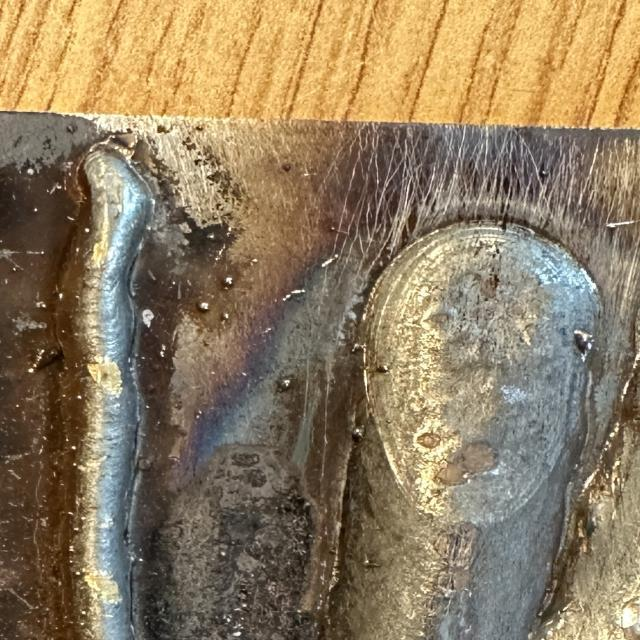Excess Reinforcement: (90, 132, 138, 160)
Spatters: (28, 346, 63, 372), (573, 329, 593, 359), (277, 376, 293, 392), (142, 309, 155, 327), (352, 425, 365, 441), (538, 165, 548, 180), (197, 301, 210, 312), (65, 559, 78, 570), (223, 276, 233, 288), (67, 540, 75, 554), (377, 364, 390, 372), (223, 615, 232, 626), (70, 525, 80, 534), (35, 301, 47, 308), (160, 345, 167, 357), (222, 312, 230, 321), (12, 264, 22, 271), (67, 511, 75, 516), (75, 571, 82, 576), (83, 228, 90, 232), (33, 208, 38, 212)
